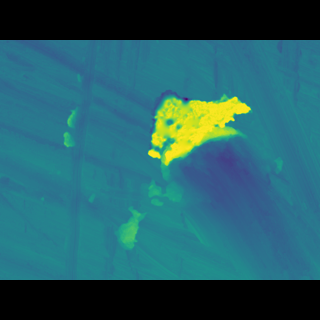Loch: (137, 101, 260, 174), (63, 69, 100, 250)
